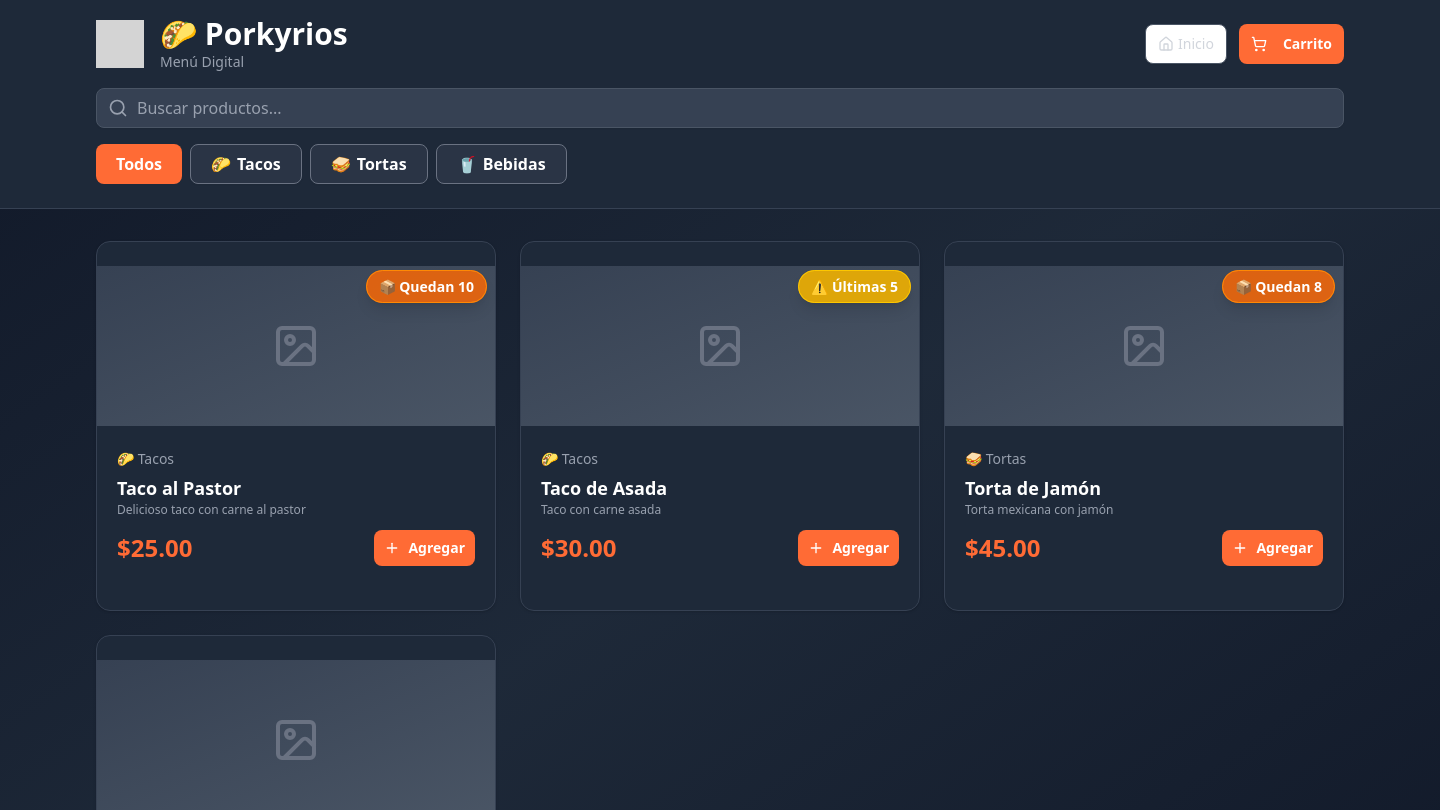
it: MenuPage Component › Category Filters › should combine category filter with search
Expected: the heading "Taco al Pastor" is shown, [117,476,241,500]
# Filter by category
Click the button "🌮 Tacos" at (246,164), box [190,144,302,184]
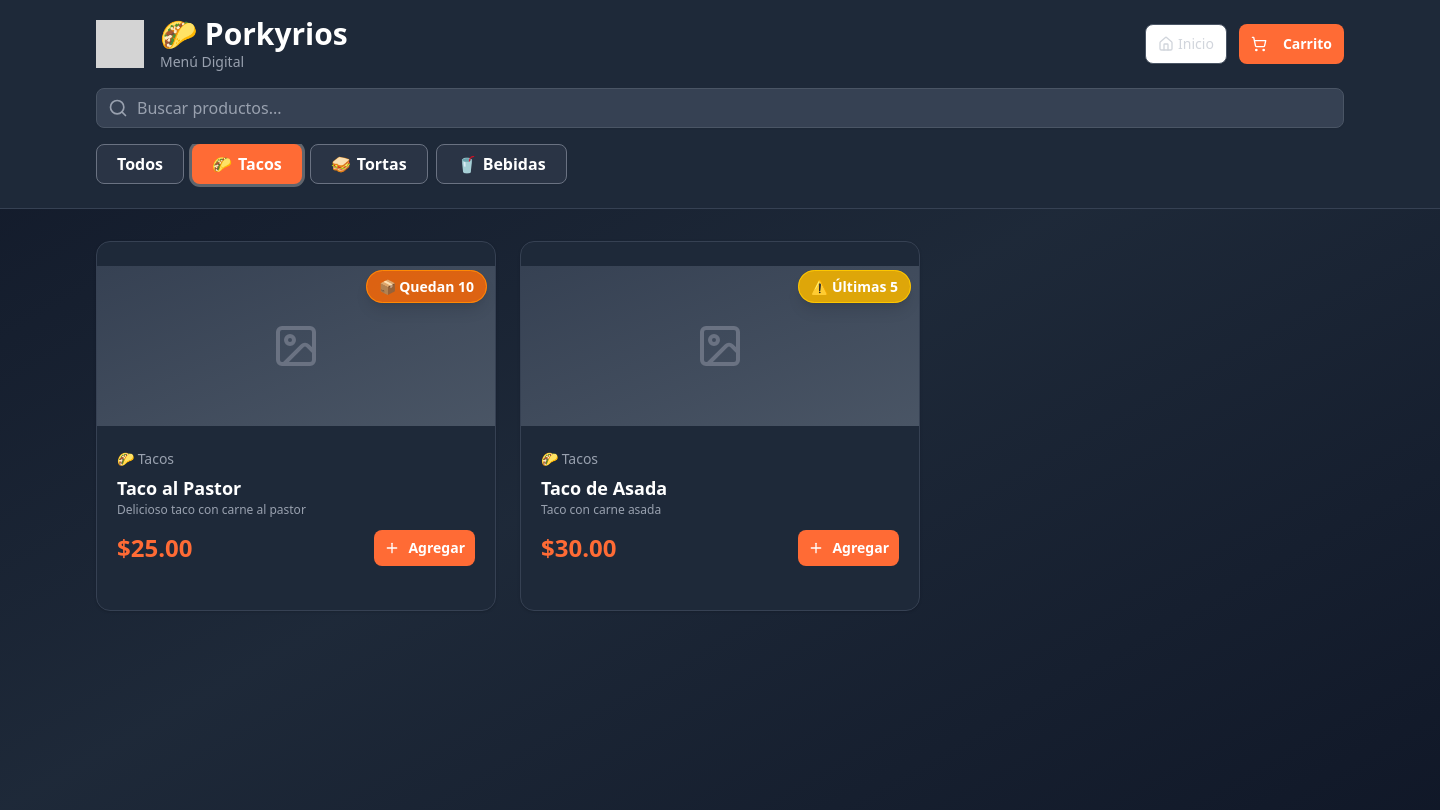
# Then search
Type "asada" into the field with placeholder "Buscar productos..." at (720,108), box [96,88,1344,128]
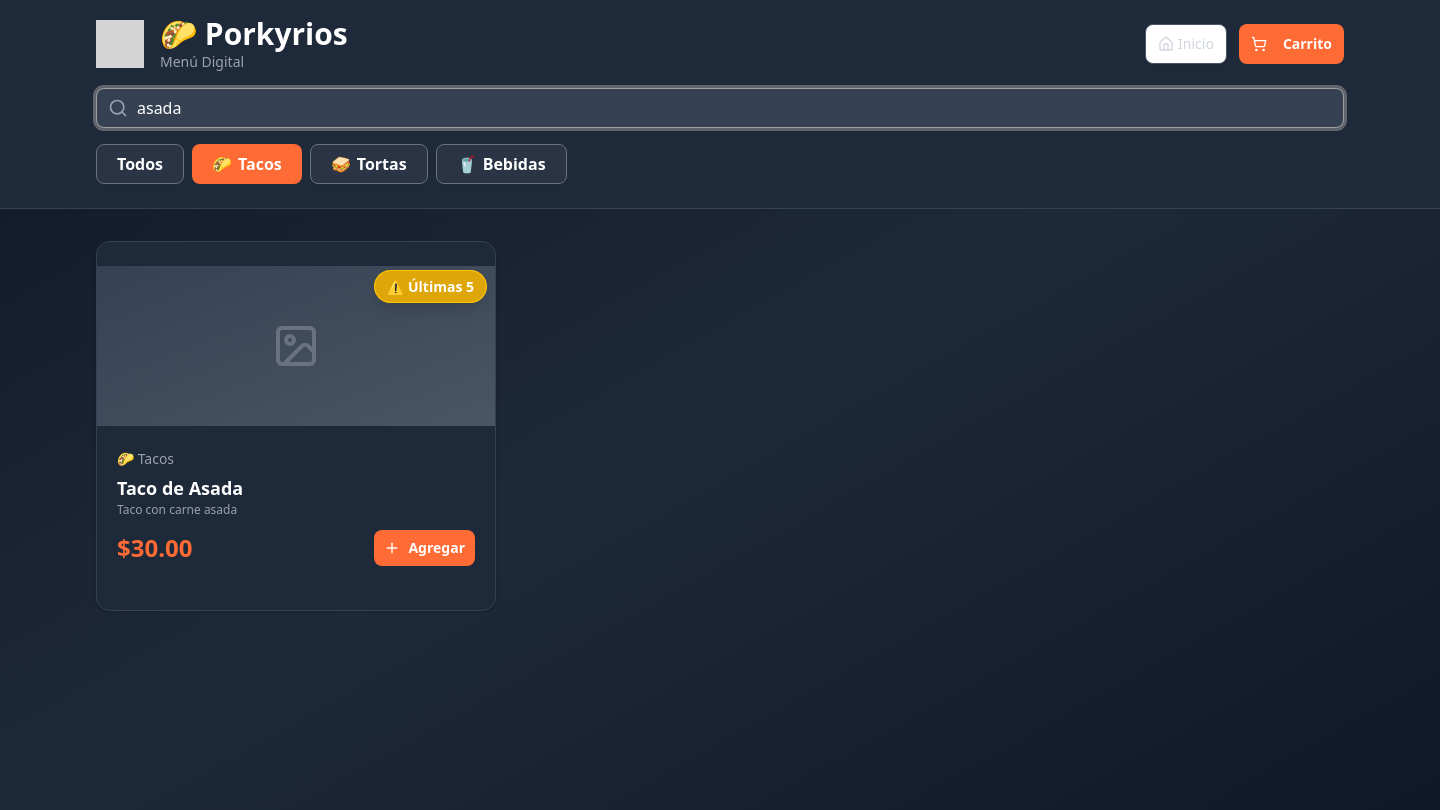
Expected: the heading "Taco de Asada" is shown, [117,476,243,500]
Expected: the heading "Taco al Pastor" is gone
